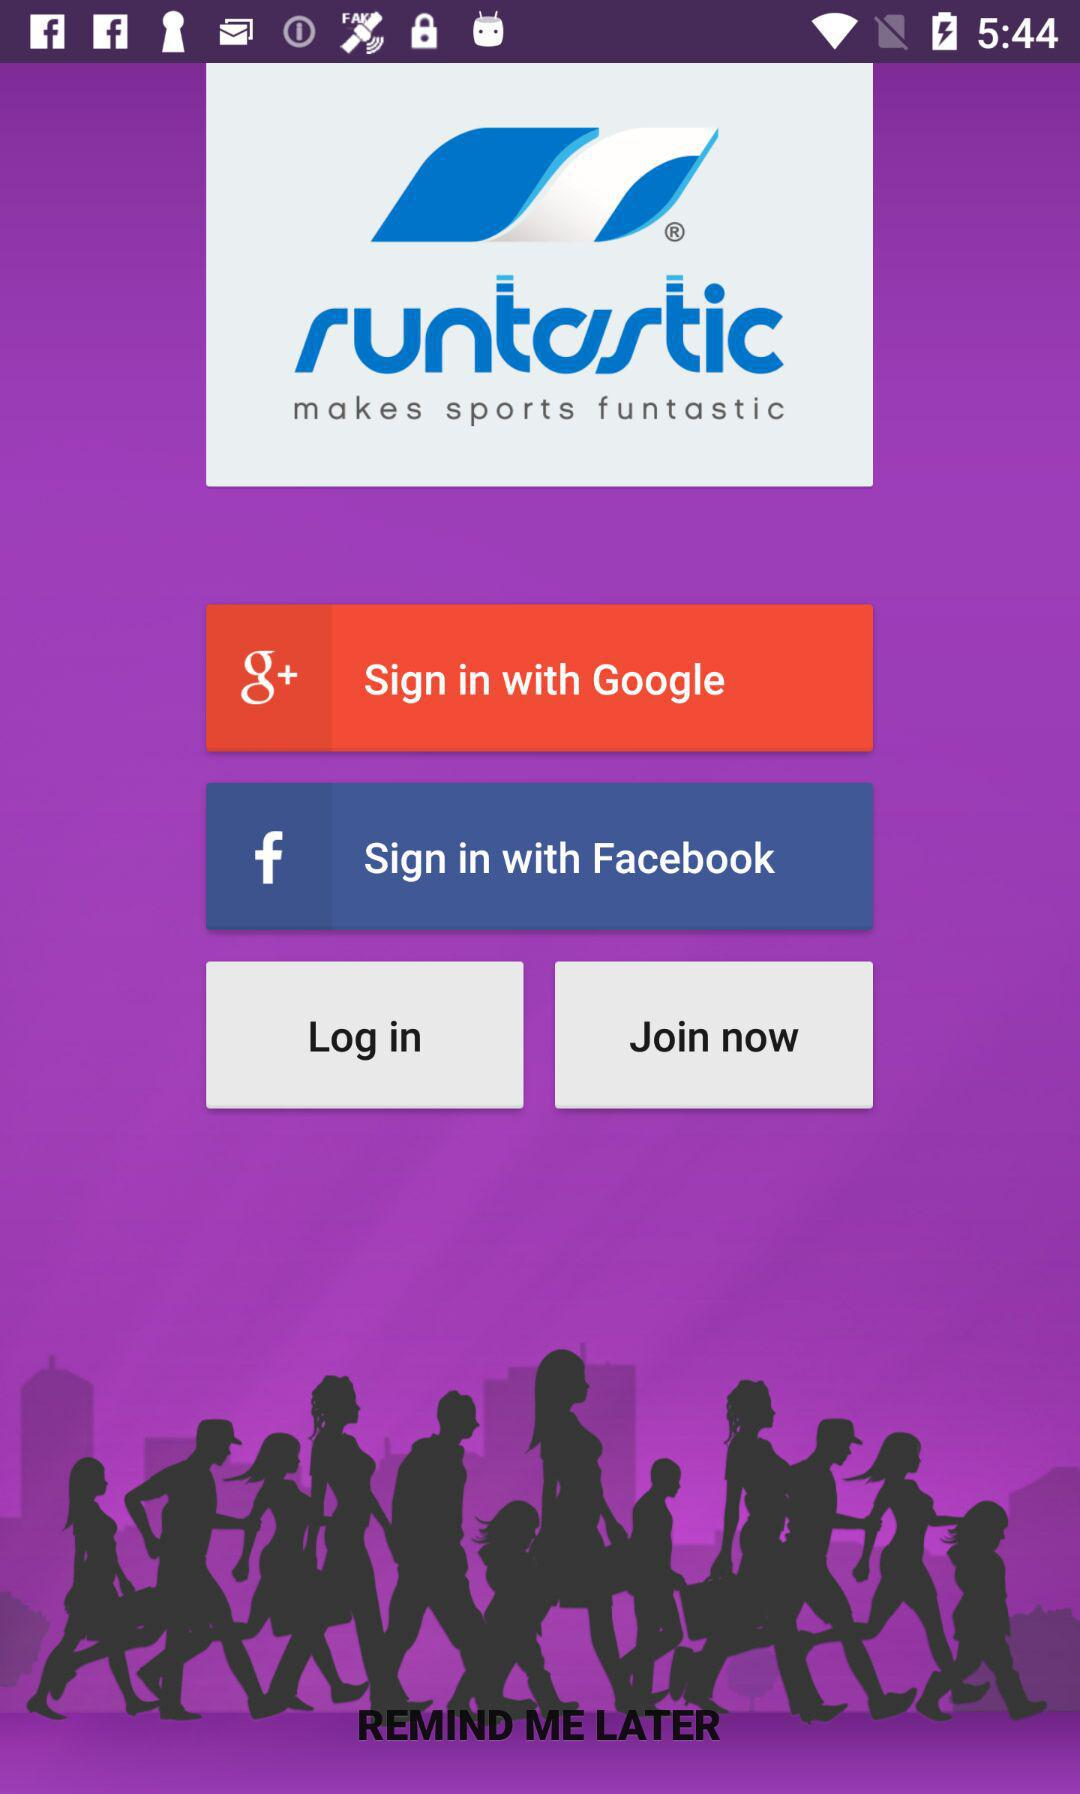Image: (1, 1337, 1080, 1794), (208, 64, 872, 487)
Text: (357, 1708, 723, 1741)
TextButton: (206, 604, 875, 753), (206, 783, 874, 932), (555, 961, 874, 1110), (206, 961, 525, 1108)
UpperTaskBar: (1, 1, 1080, 64)
